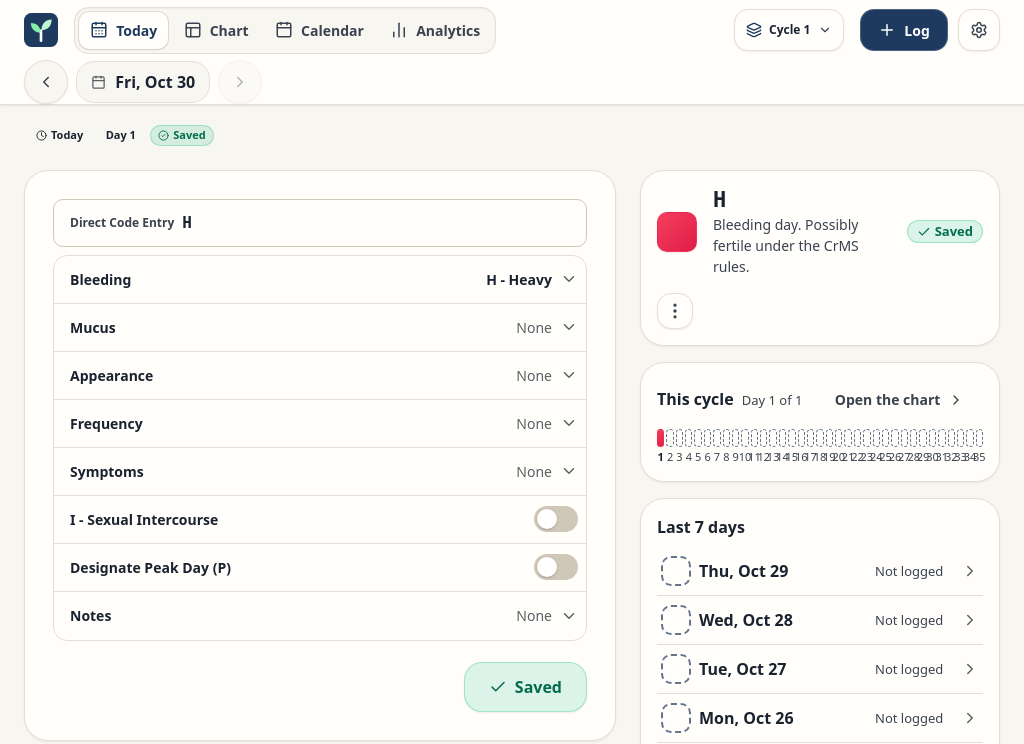
Test: App flows › opens the chart from the current cycle of the wide desktop Today page
Click the button "Open the chart".
click(900, 400)  # box x1=816 y1=379 x2=983 y2=421
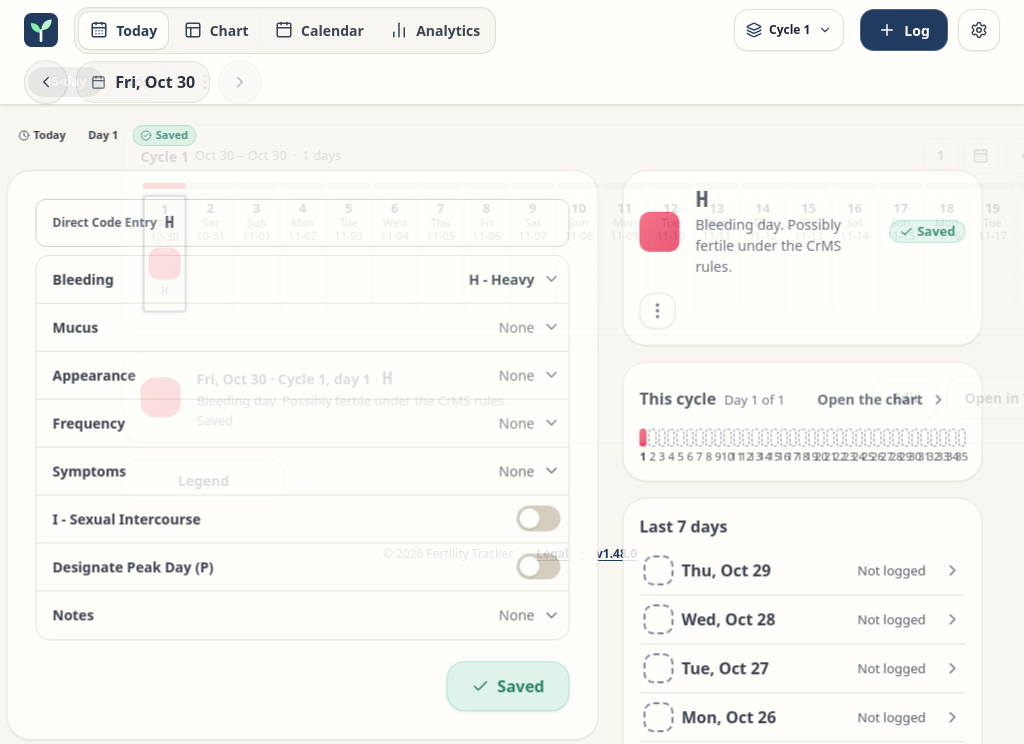
Check: the panel named "Paper Chart Strip" is shown, box x1=24 y1=125 x2=1000 y2=502
